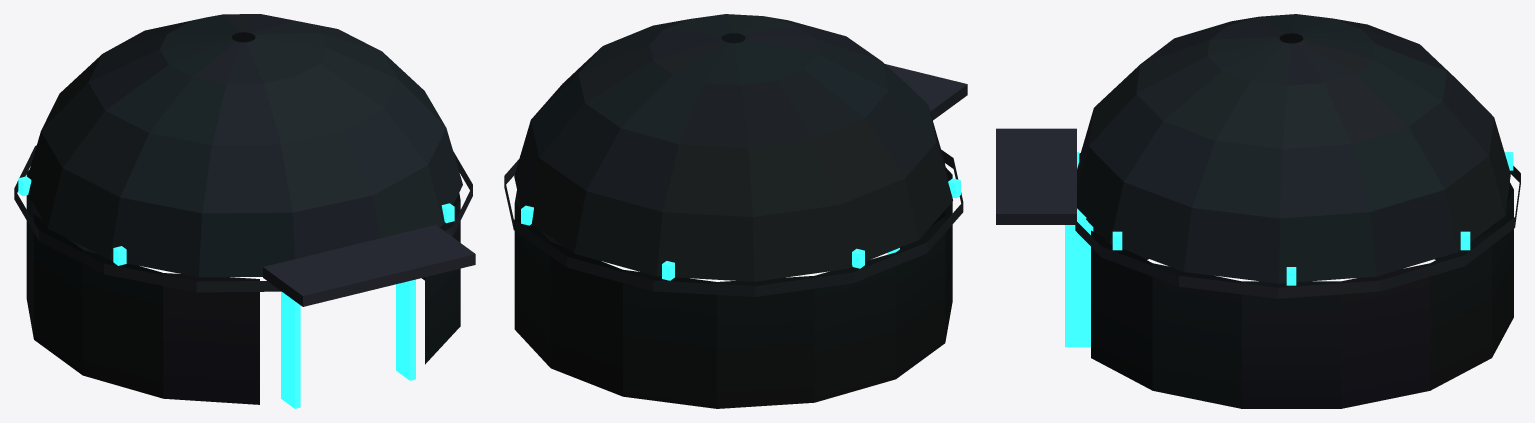
The model's file is shaddai_dist_grid_home_b_v01.glb.
3 views of the same model, side by side, from view 1: azimuth 30°, elevation 25°; view 2: azimuth 150°, elevation 25°; view 3: azimuth 270°, elevation 25° (orthographic).
Parts seen in each view (by area): view 1: shaddai_dist_grid_home_b; view 2: shaddai_dist_grid_home_b; view 3: shaddai_dist_grid_home_b.
Boxes of the visible parts, box(x1,y1,x2,y2) form: shaddai_dist_grid_home_b: box(14, 14, 475, 408); shaddai_dist_grid_home_b: box(504, 14, 967, 408); shaddai_dist_grid_home_b: box(996, 14, 1520, 408).
Size of the model in its own units: 11.48 by 7.6 by 12.97.
